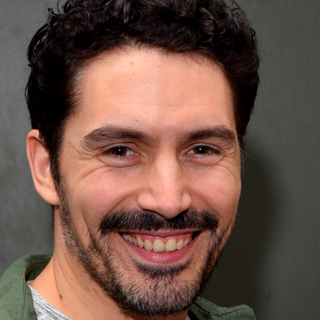eye: (95, 140, 144, 165), (181, 139, 225, 164)
